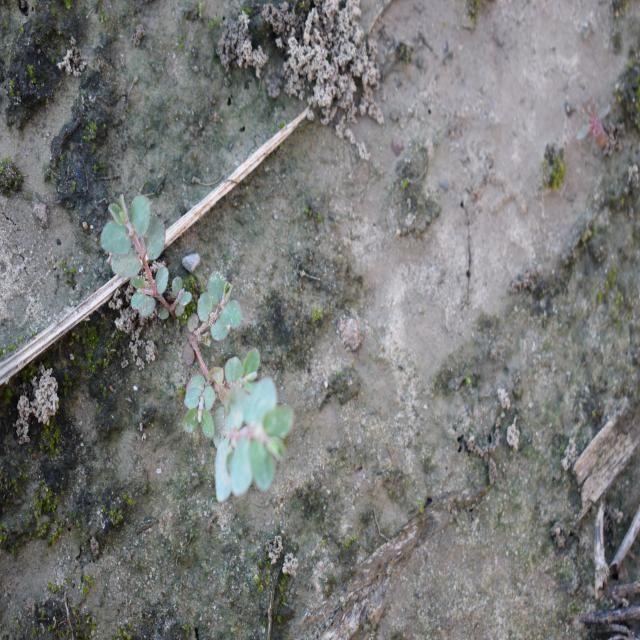SpottedSpurge: (98, 191, 296, 504)
